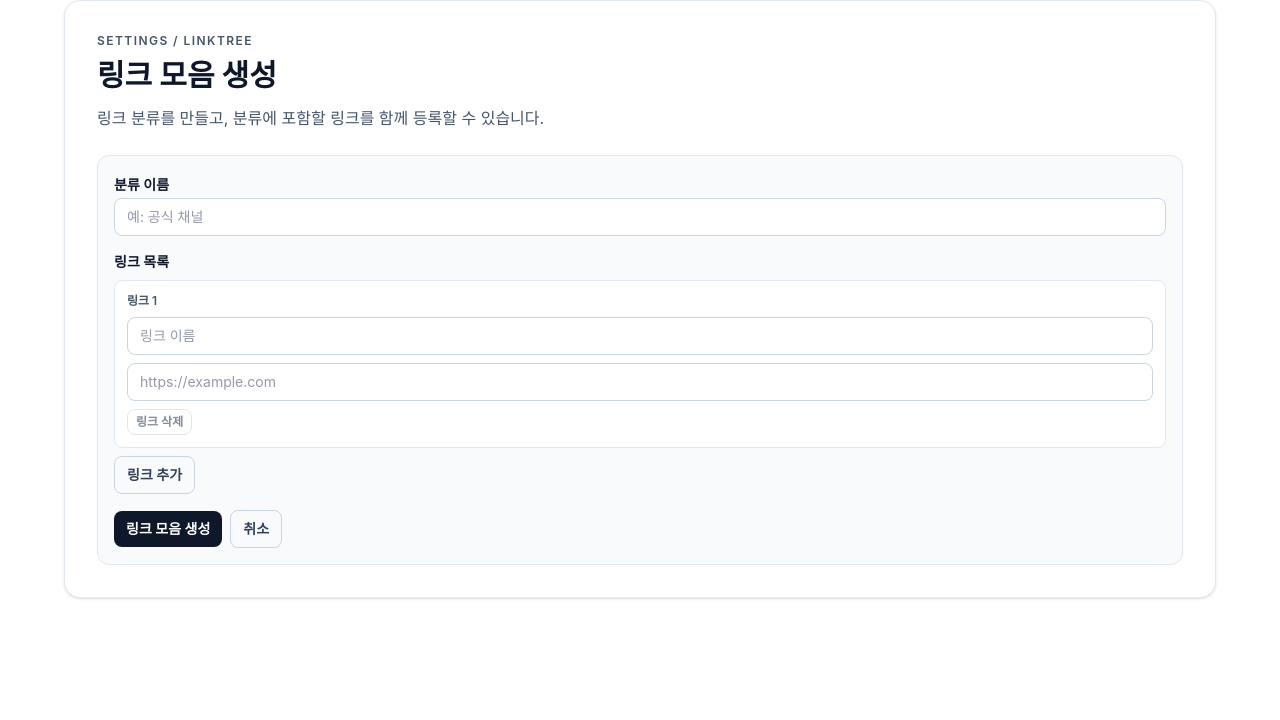
Test: LinktreeCreateForm › shows validation errors
Click the button with test id "linktree-create-submit" at (168, 529), box left=114, top=511, right=222, bottom=547
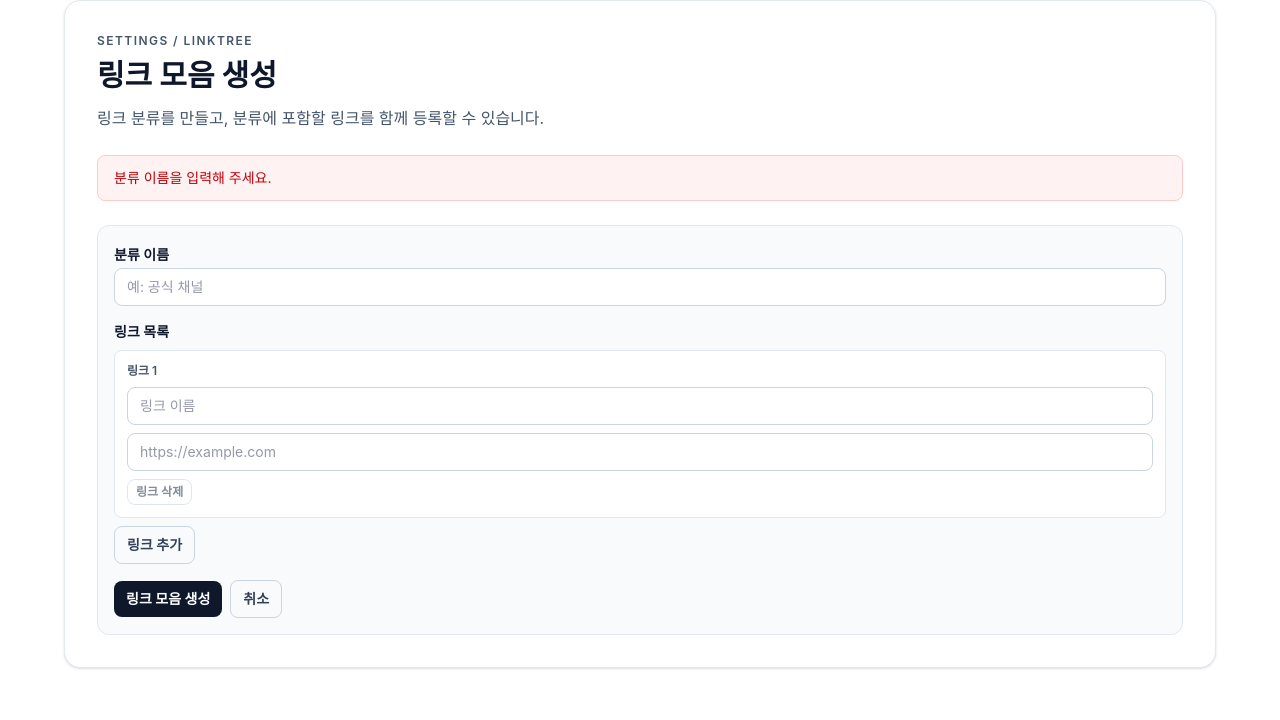
Check: the text "분류 이름을 입력해 주세요." is shown, box left=97, top=155, right=1183, bottom=201
Type "공식 채널" into the field with test id "linktree-group-name-input" at (640, 287), box left=114, top=268, right=1166, bottom=306
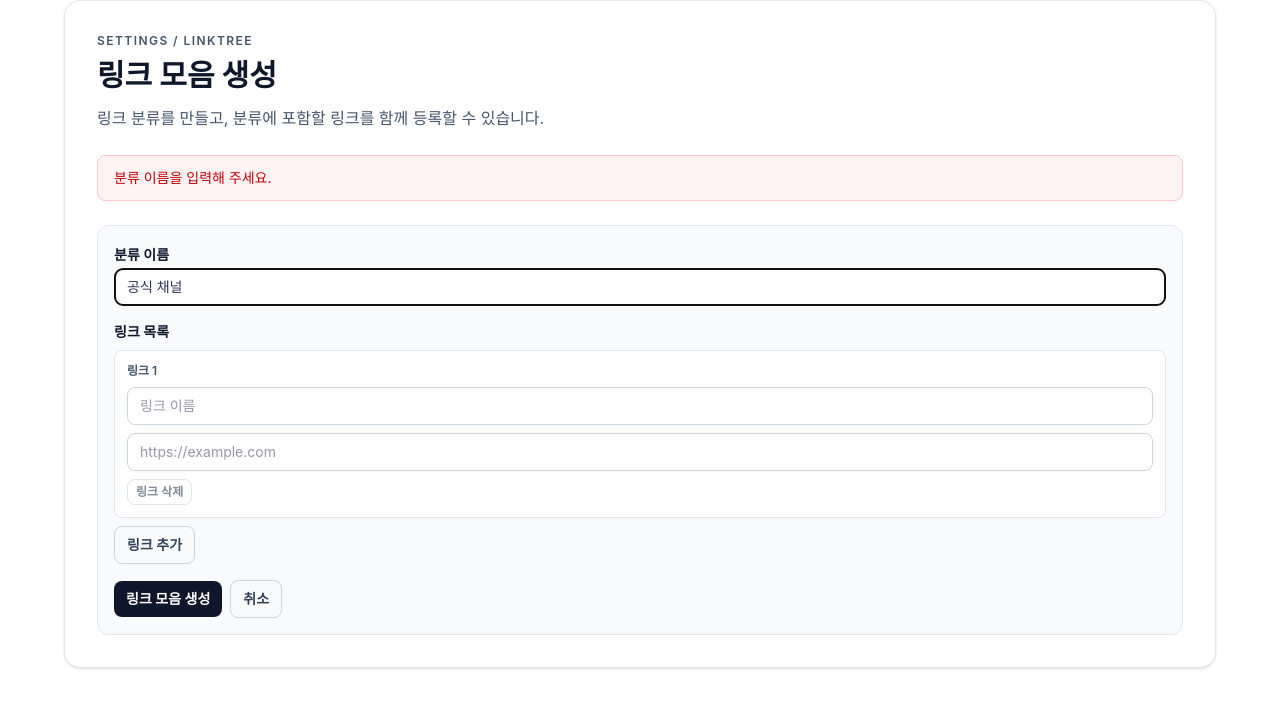
Click the button with test id "linktree-create-submit" at (168, 599), box left=114, top=581, right=222, bottom=617
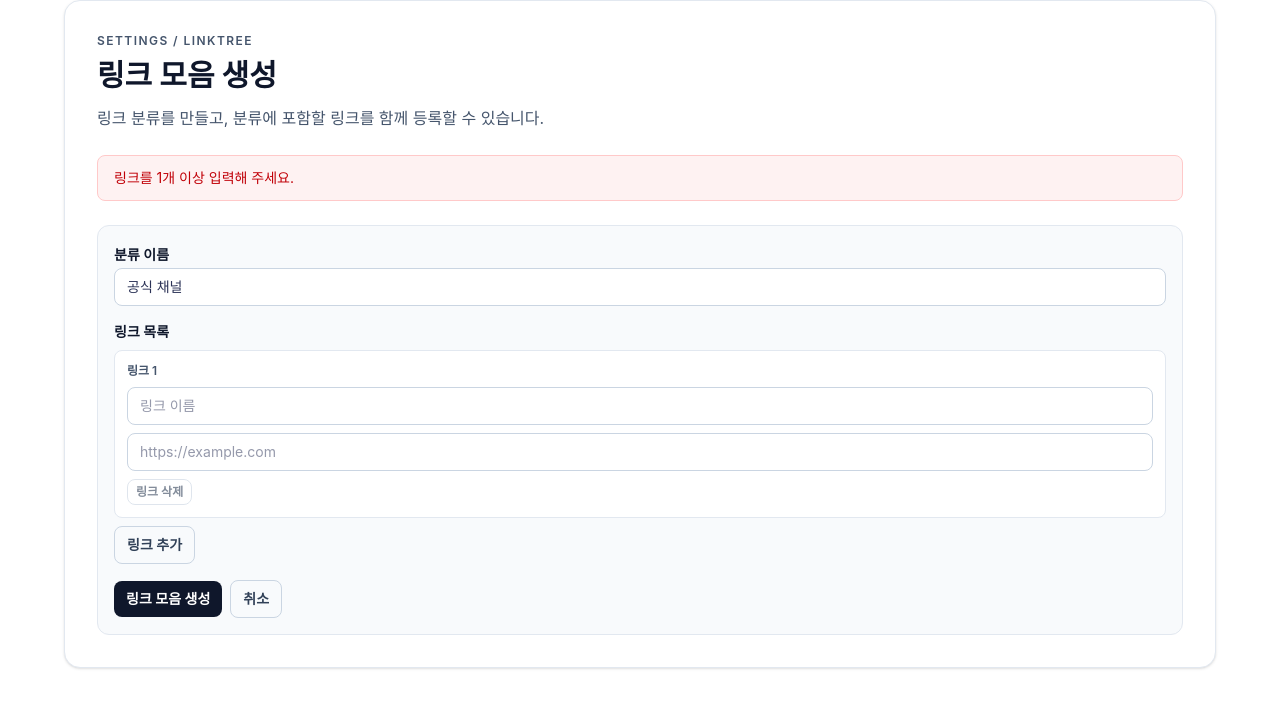
Check: the text "링크를 1개 이상 입력해 주세요." is shown, box left=97, top=155, right=1183, bottom=201
